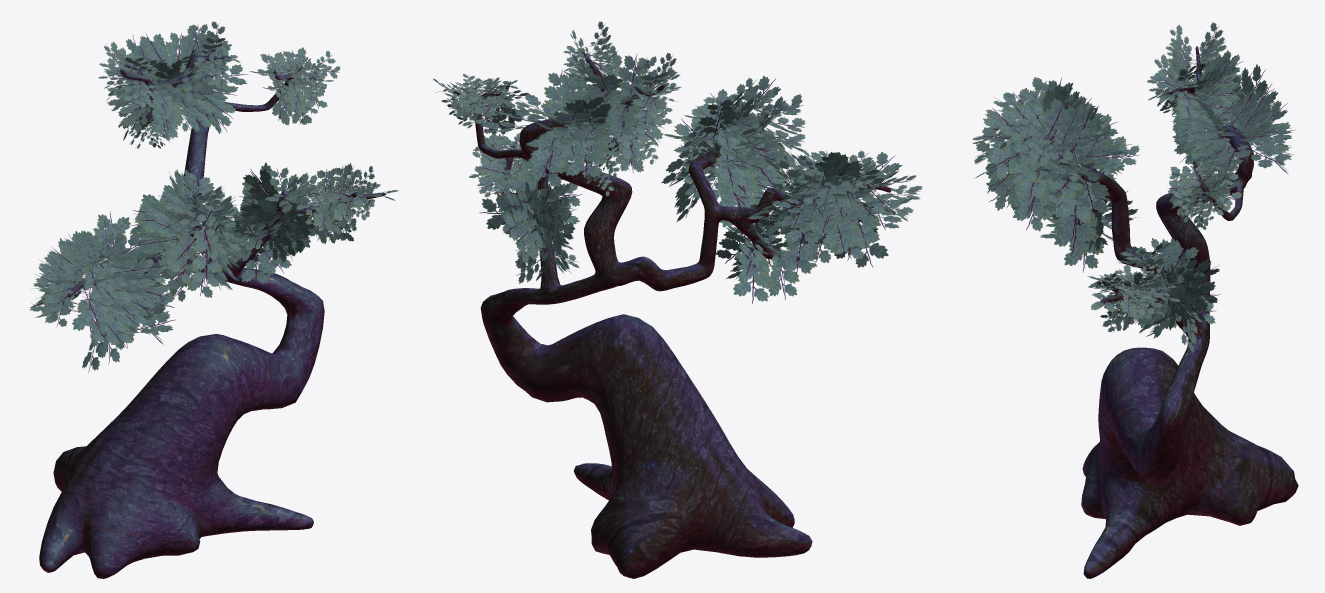
The model's file is magic_tree4.glb.
3 views of the same model, side by side, from view 1: azimuth 30°, elevation 25°; view 2: azimuth 150°, elevation 25°; view 3: azimuth 270°, elevation 25° (orthographic). The views are drawn at different scales.
Visible parts, largest first — view 1: Fantasy_Tree; view 2: Fantasy_Tree; view 3: Fantasy_Tree.
Boxes of the visible parts, <box> form: Fantasy_Tree: <box>29,21,398,578</box>; Fantasy_Tree: <box>433,21,922,578</box>; Fantasy_Tree: <box>972,22,1298,578</box>.
Bounding box in the file's own units: 0.0377 × 0.0437 × 0.0276.
2 materials, 2 textured.
